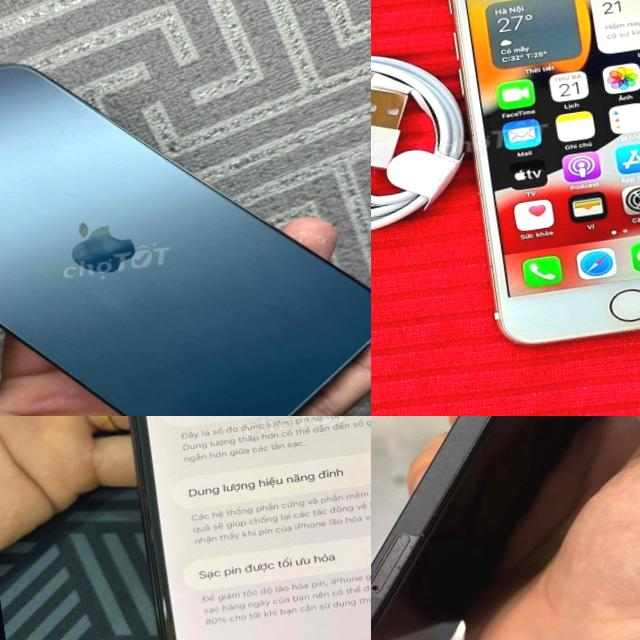gen_11: (94, 416, 371, 640)
gen_12_13: (0, 14, 371, 416), (371, 416, 640, 640)
gen_7_8: (439, 0, 640, 356)
